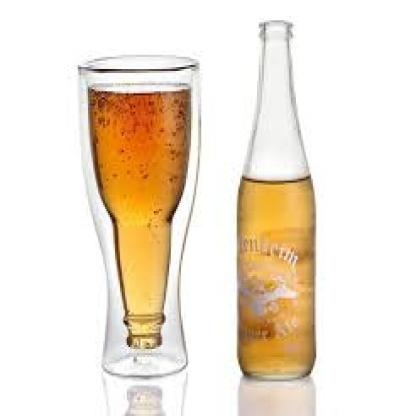trash: (79, 55, 199, 375), (238, 21, 314, 378)
